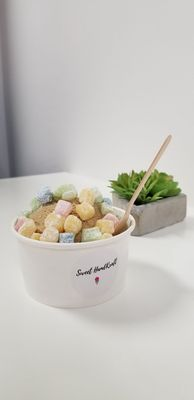sushi: (1, 168, 139, 310)
